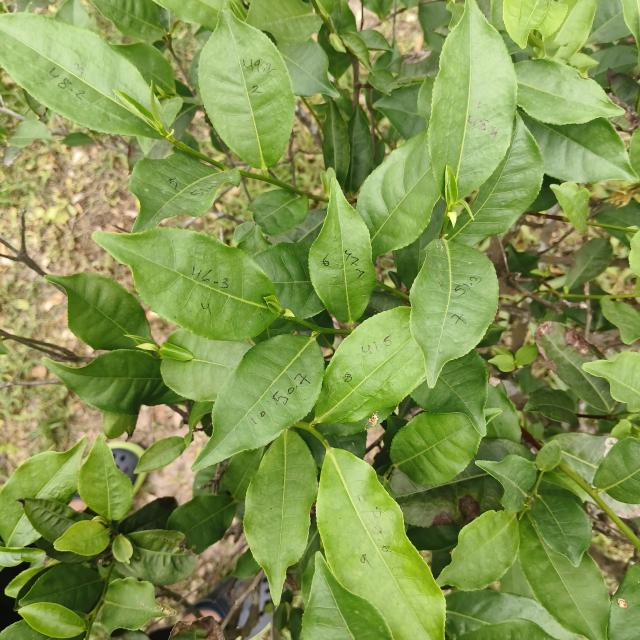Leaf: (316, 448, 445, 640), (94, 227, 276, 340), (0, 13, 160, 138), (192, 334, 324, 471), (428, 0, 517, 197), (199, 10, 295, 170), (312, 306, 426, 436), (410, 238, 498, 388), (243, 430, 318, 606), (388, 438, 532, 527), (448, 115, 543, 246), (519, 512, 609, 640), (357, 130, 440, 256), (309, 178, 376, 325), (0, 437, 87, 547), (43, 349, 182, 415), (129, 152, 240, 233), (520, 112, 637, 184), (45, 273, 153, 350), (302, 552, 392, 640), (535, 321, 615, 413), (512, 60, 623, 125), (445, 589, 581, 640), (390, 412, 481, 485), (436, 510, 519, 590), (411, 350, 488, 435), (161, 329, 251, 401), (253, 242, 324, 318), (78, 435, 133, 520), (116, 529, 198, 585), (531, 494, 591, 566), (100, 577, 175, 634), (19, 563, 101, 613), (168, 494, 235, 554), (277, 39, 339, 97), (582, 351, 640, 412), (476, 454, 537, 511), (111, 43, 175, 95), (246, 0, 321, 44), (593, 437, 640, 504), (503, 0, 568, 48), (92, 0, 167, 41), (24, 498, 92, 543), (373, 83, 427, 139), (248, 189, 308, 237), (554, 0, 597, 59), (322, 98, 350, 186), (565, 237, 612, 289), (345, 106, 373, 193), (18, 602, 85, 638), (220, 447, 263, 501), (157, 0, 228, 30), (524, 387, 578, 426), (134, 436, 187, 473), (550, 182, 589, 232), (54, 521, 109, 556), (600, 296, 640, 344), (9, 119, 55, 148), (341, 32, 371, 71), (55, 0, 92, 29), (0, 546, 44, 567), (232, 549, 260, 579), (535, 441, 562, 472), (368, 68, 399, 95), (358, 29, 391, 50), (112, 533, 133, 563), (515, 345, 538, 367), (488, 354, 515, 372)
